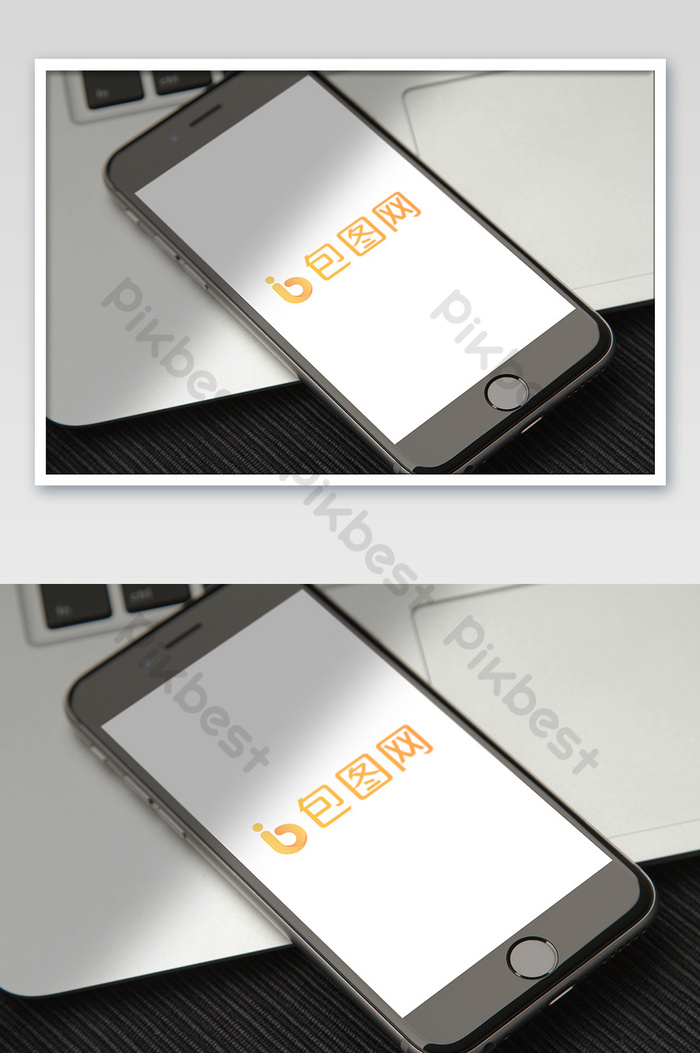Phone: (63, 582, 666, 1053), (103, 70, 622, 479)
